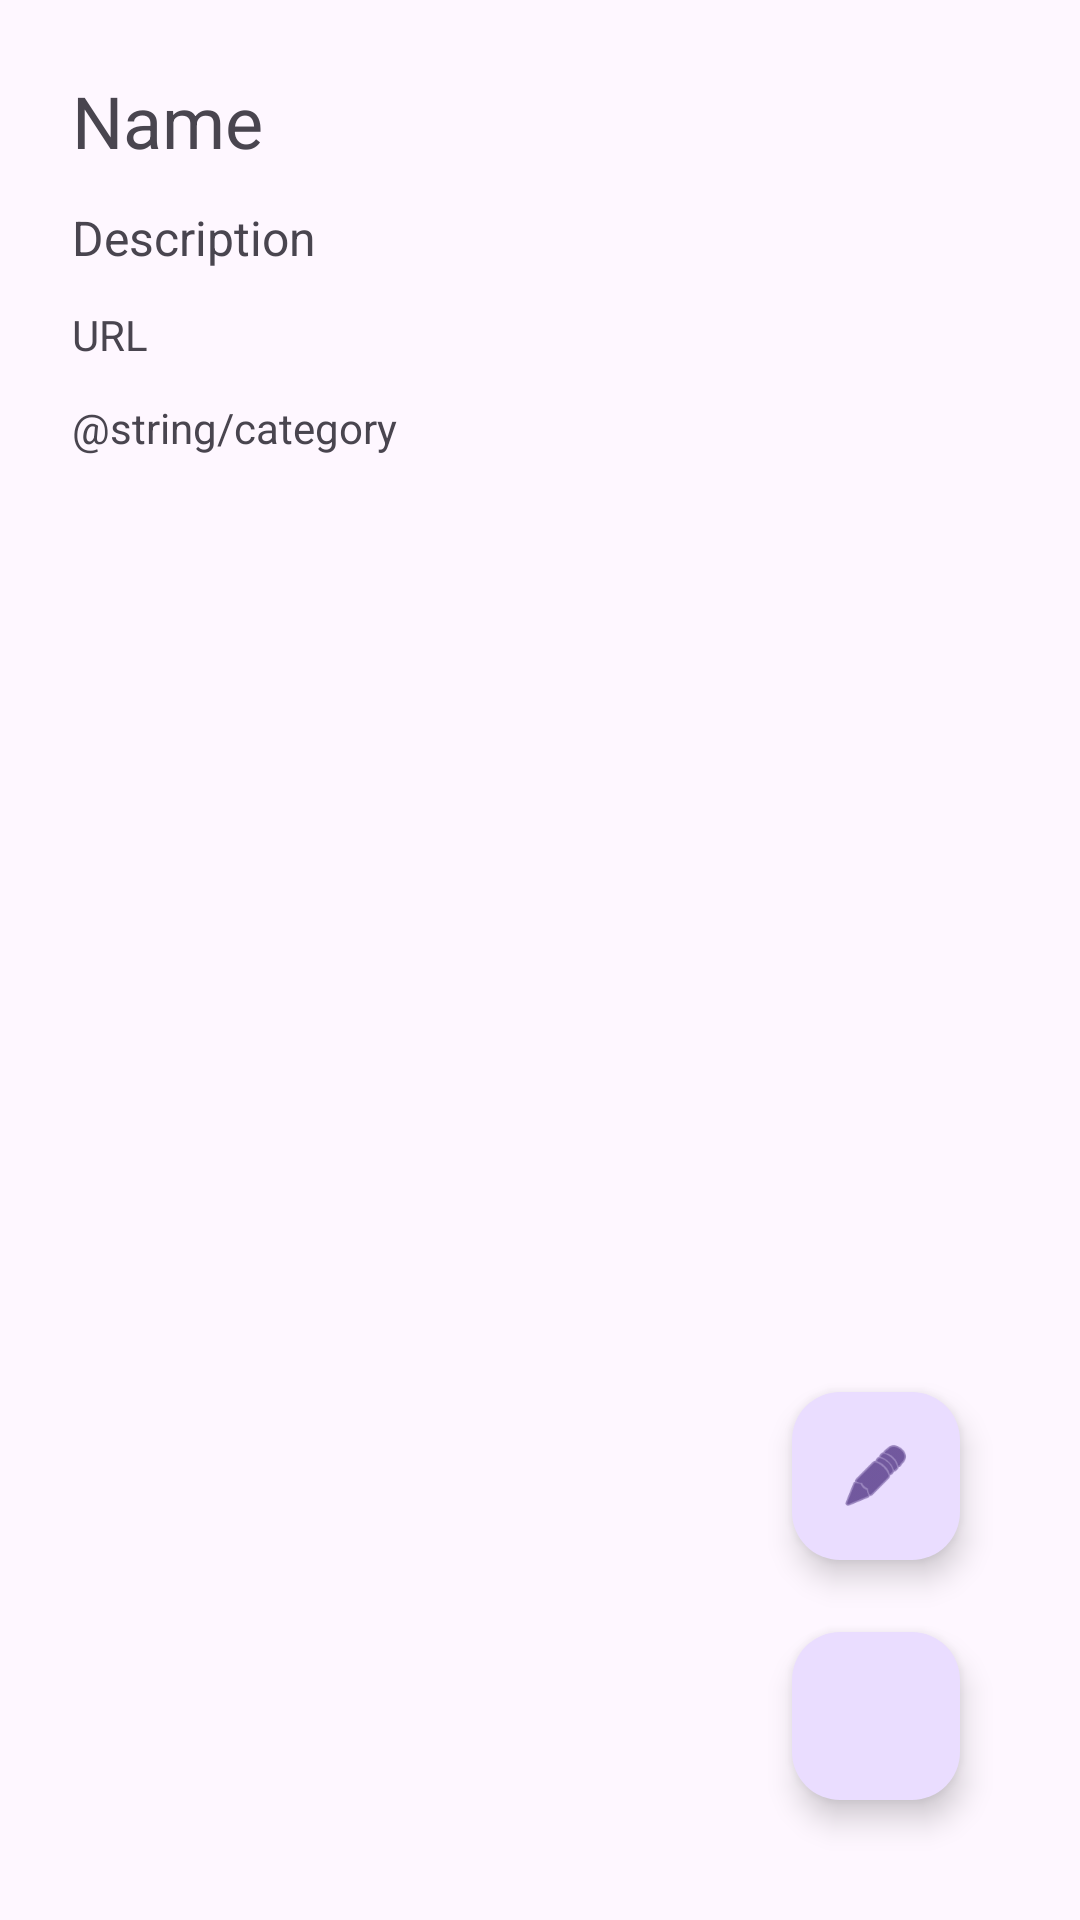

Screen size 1080×1920. Icon name, then its box in pixels as (x1, y1, x2, y2):
edit: (792, 1392, 960, 1560)
